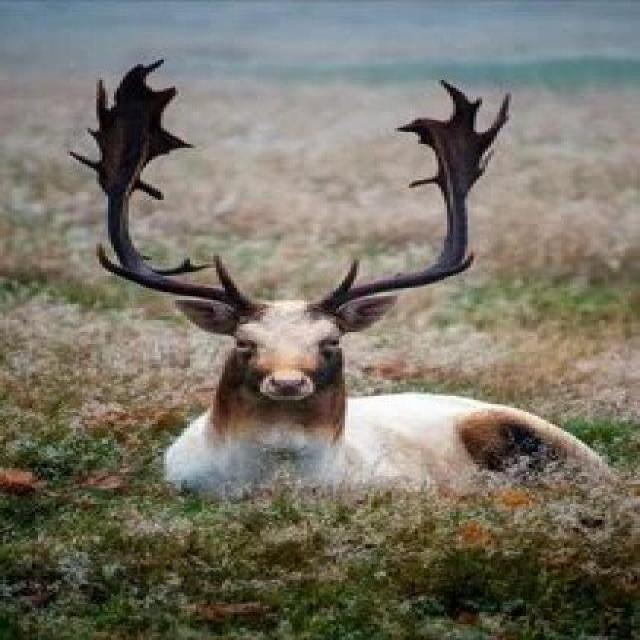deer: (61, 35, 616, 577)
